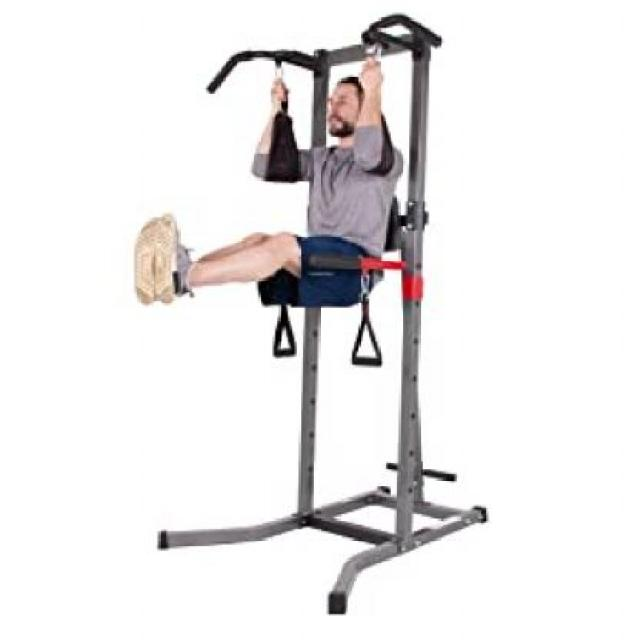chinning dipping: (208, 14, 489, 615)
